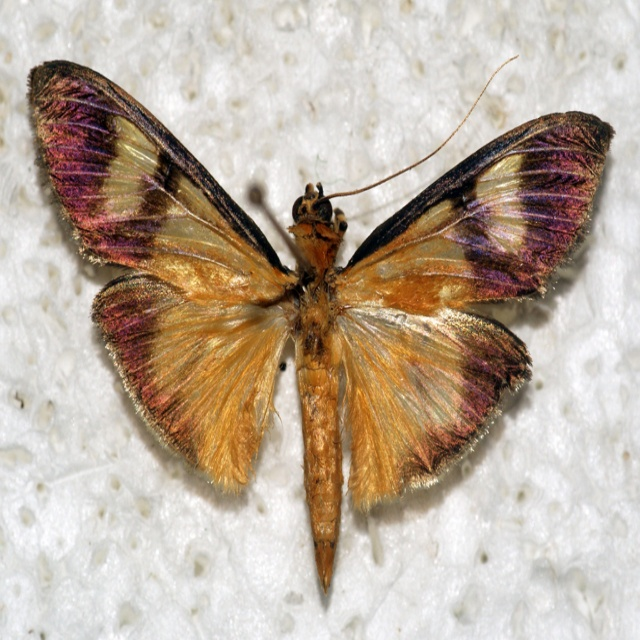Butterfly: (28, 36, 614, 593)
